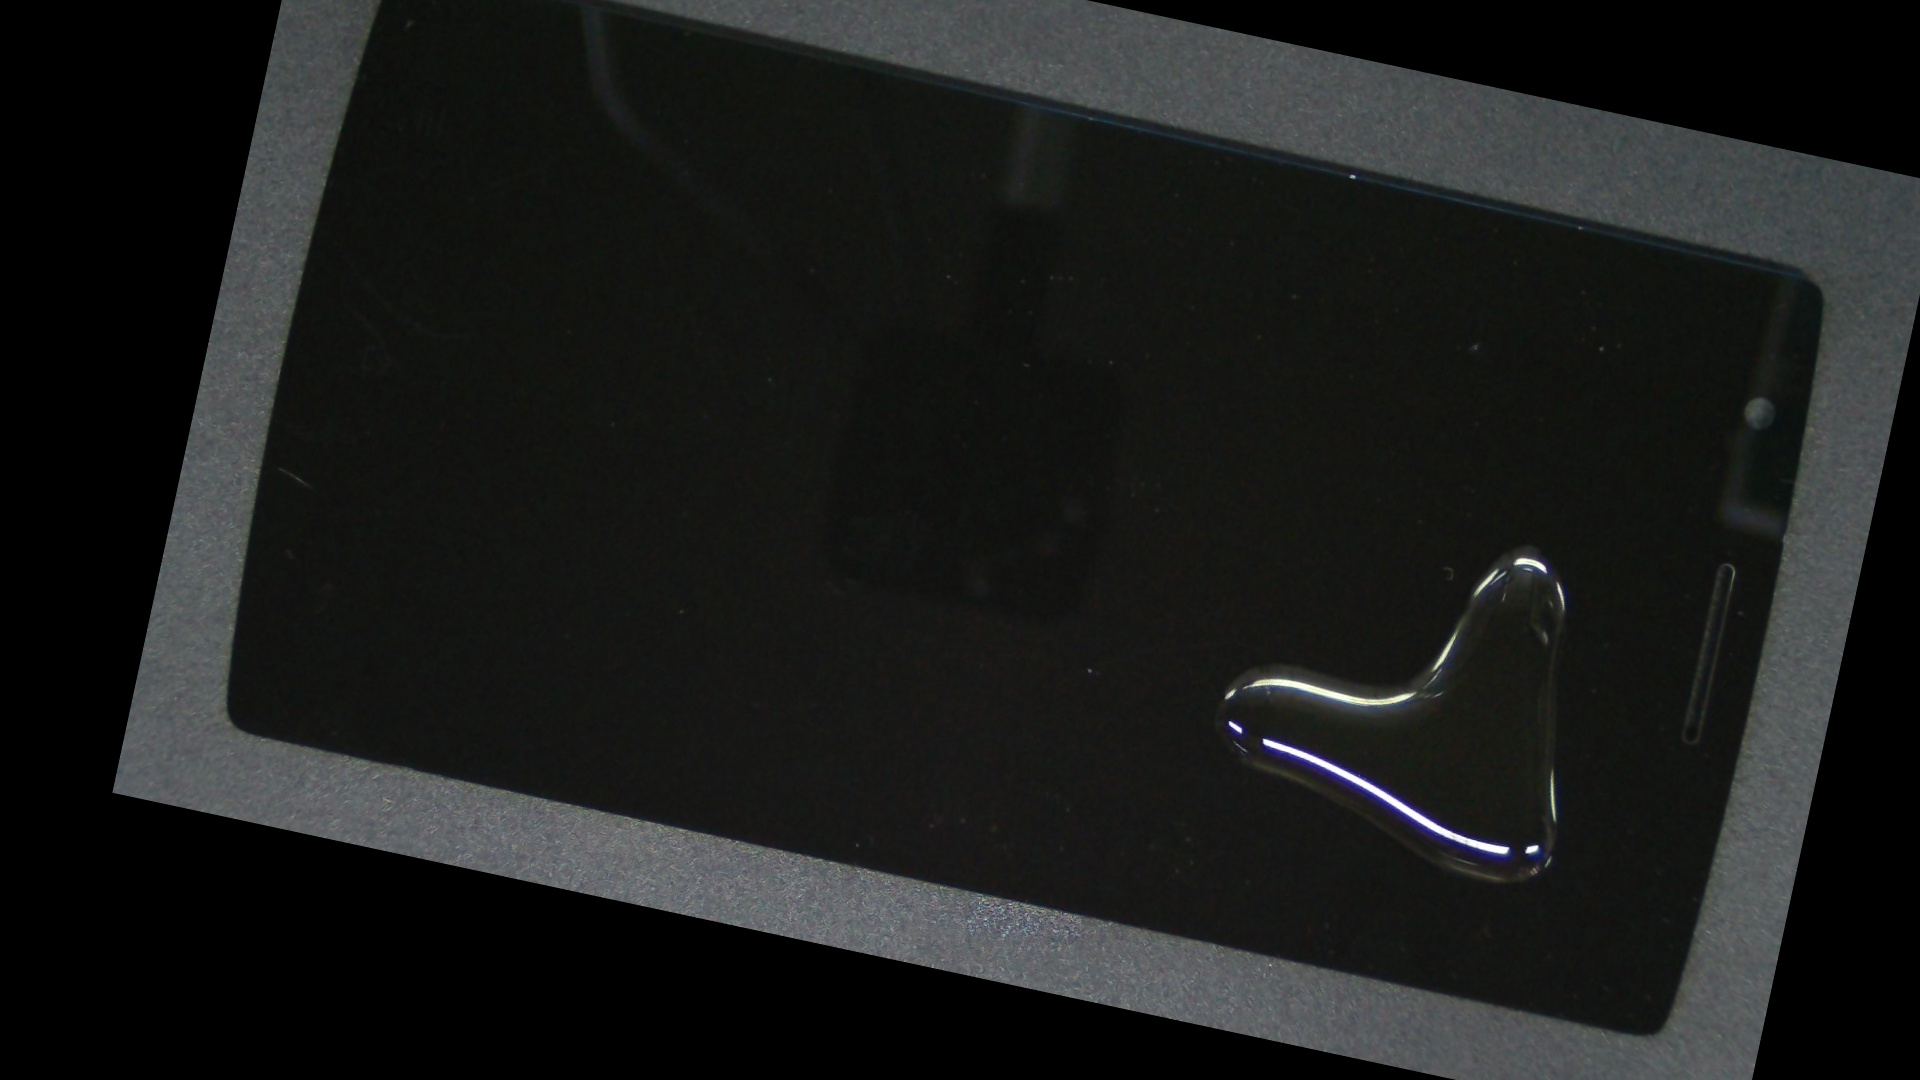oil: (832, 191, 1898, 831)
